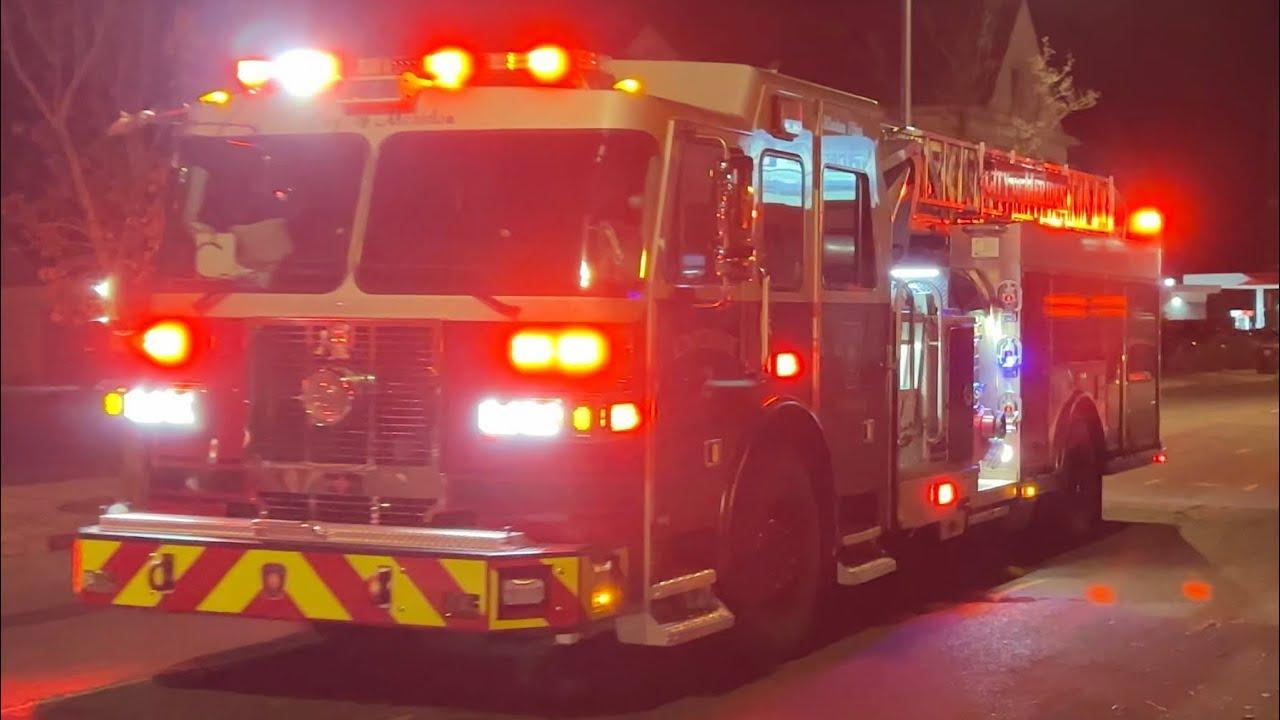Fire-engine: (65, 44, 1169, 679), (75, 47, 1163, 642), (224, 39, 577, 108)
